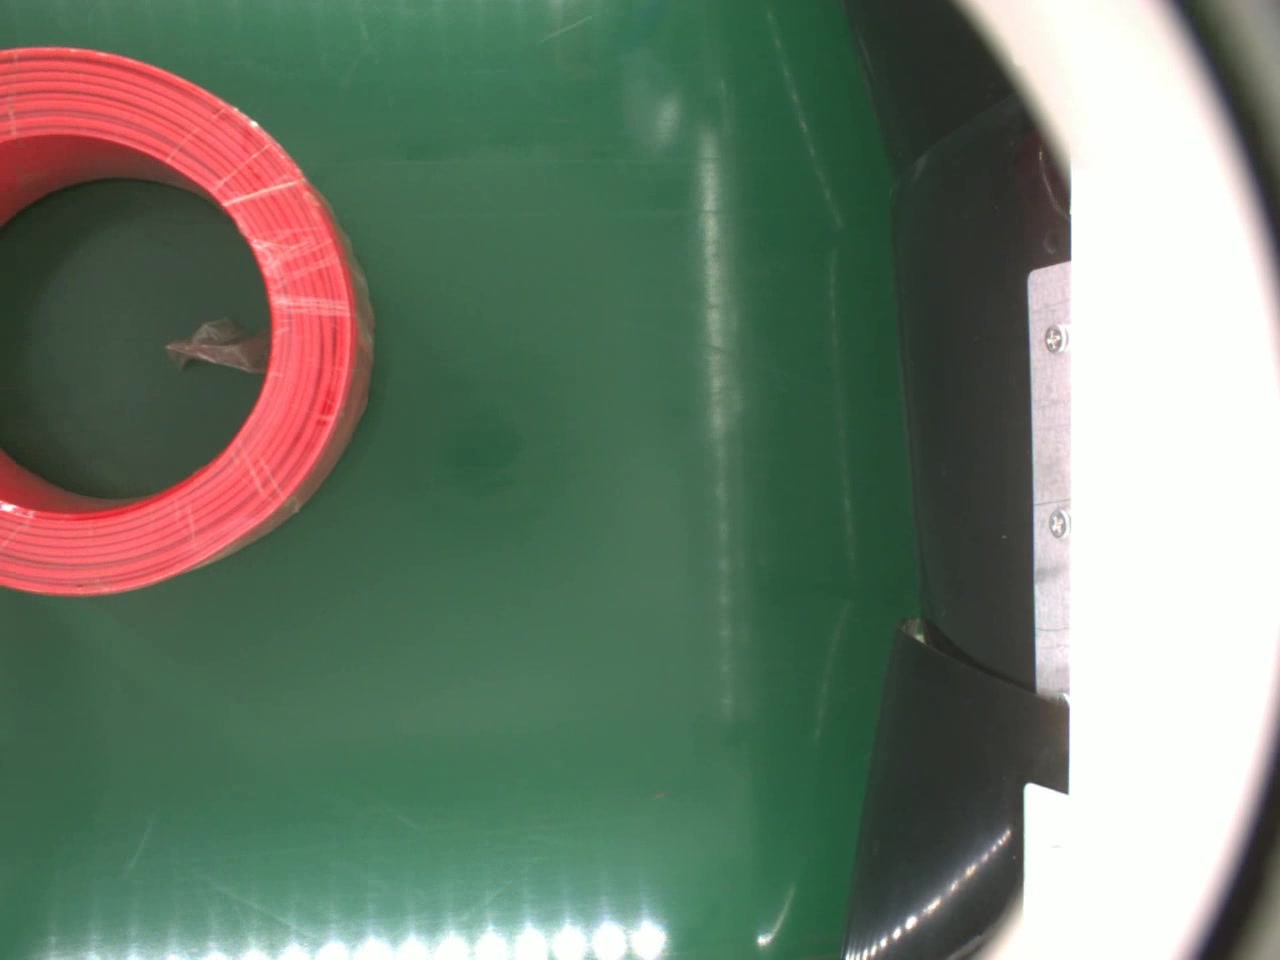red: (0, 45, 374, 599)
